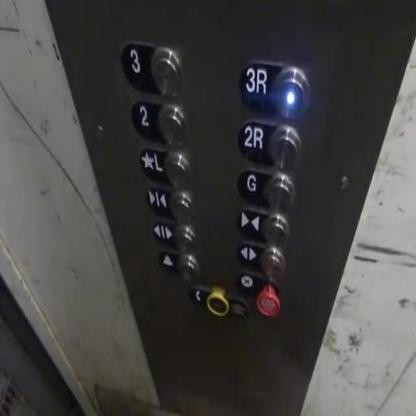2: (130, 99, 187, 145)
2R: (237, 118, 303, 173)
3: (119, 39, 182, 94)
3R: (238, 57, 309, 116)
G: (236, 166, 295, 208)
alarm: (158, 246, 199, 284)
call: (186, 284, 227, 319)
close: (237, 204, 290, 249), (144, 180, 193, 220)
open: (150, 215, 197, 253), (238, 241, 287, 274)
sL: (138, 146, 190, 186)
stop: (237, 271, 283, 316)
